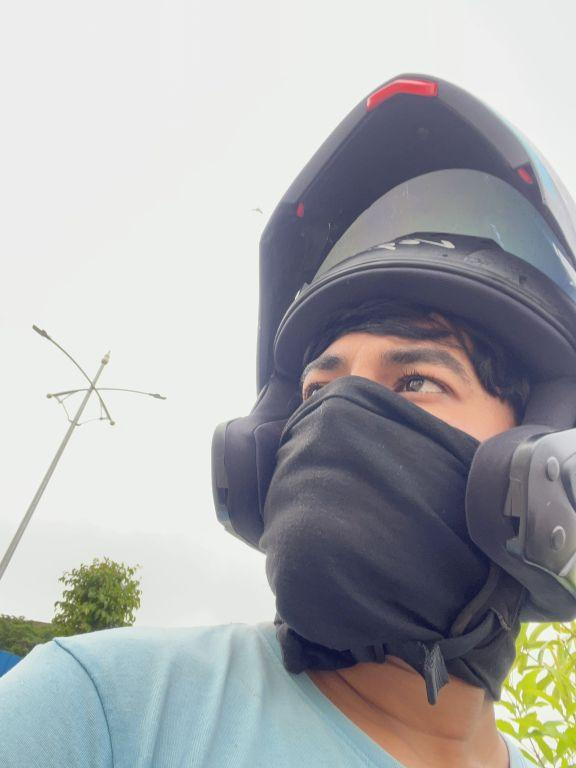helmet: (185, 52, 576, 673)
